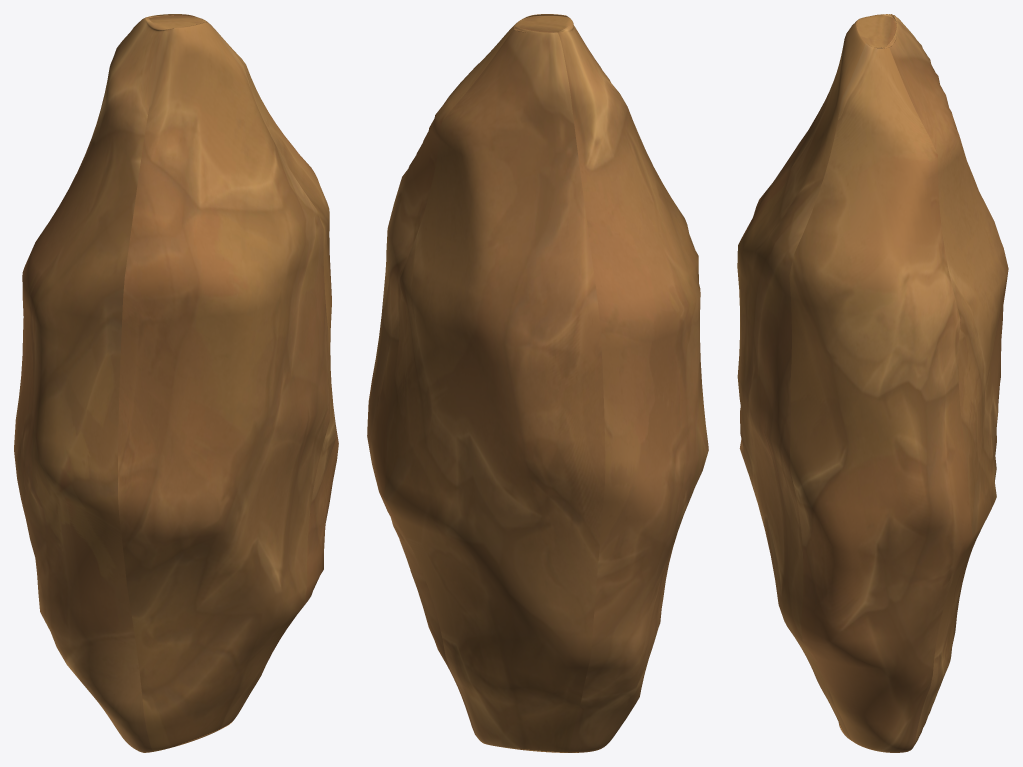
File: islands10.fbx
3 renders of one model, left to right at view 1: azimuth 30°, elevation 25°; view 2: azimuth 150°, elevation 25°; view 3: azimuth 270°, elevation 25°, orthographic. The views are drawn at different scales.
Visible parts, largest first — view 1: Cube.012; view 2: Cube.012; view 3: Cube.012.
Part boxes in pixels (x1,y1,x2,y2): Cube.012: (14,14,338,752); Cube.012: (367,14,708,752); Cube.012: (737,14,1008,752).
Size of the model in its own units: 557 by 1252 by 437.
1 material, 1 textured.
